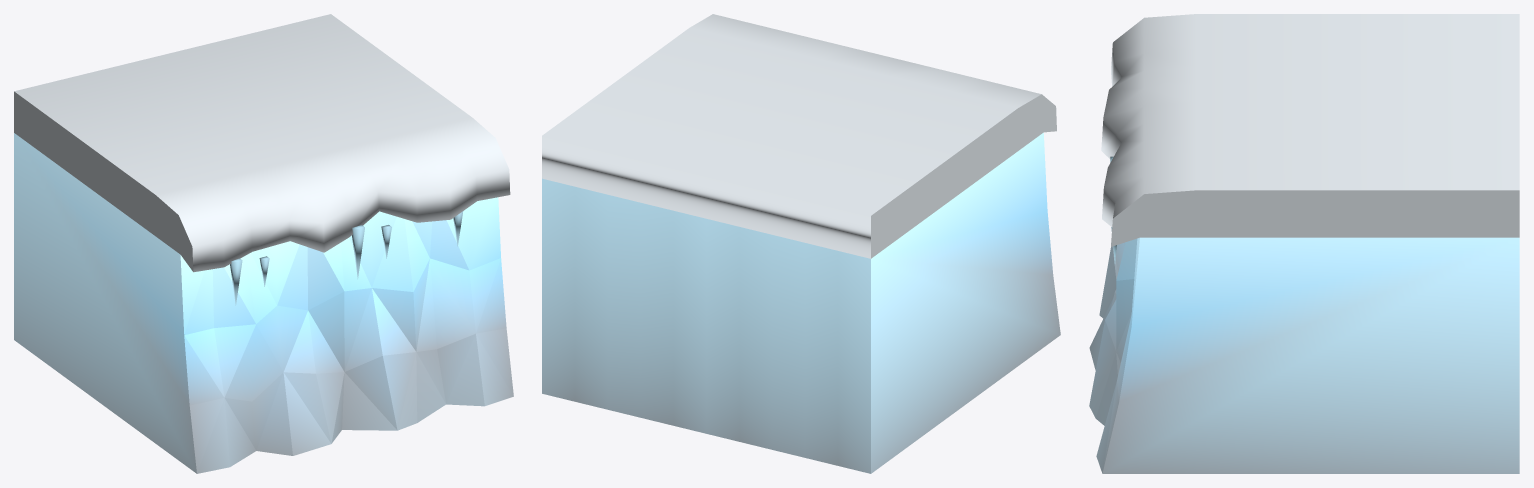
File: Env_Cliff_Straight.glb
The picture shows the model from 3 angles, left to right: view 1: azimuth 30°, elevation 25°; view 2: azimuth 150°, elevation 25°; view 3: azimuth 270°, elevation 25°; orthographic projection. The views are drawn at different scales.
Parts seen in each view (by area): view 1: Cliff_Straight_Wall, Cliff_Straight_Snow, Cliff_Straight_Icicles; view 2: Cliff_Straight_Wall, Cliff_Straight_Snow; view 3: Cliff_Straight_Wall, Cliff_Straight_Snow.
Boxes of the visible parts, box(x1,y1,x2,y2) form: Cliff_Straight_Wall: box(14, 133, 513, 473); Cliff_Straight_Snow: box(14, 14, 510, 272); Cliff_Straight_Icicles: box(230, 211, 463, 305); Cliff_Straight_Wall: box(542, 133, 1060, 473); Cliff_Straight_Snow: box(542, 14, 1056, 258); Cliff_Straight_Wall: box(1089, 237, 1519, 473); Cliff_Straight_Snow: box(1101, 14, 1519, 246).
Bounding box in the file's own units: 2 × 1.5 × 2.06.
